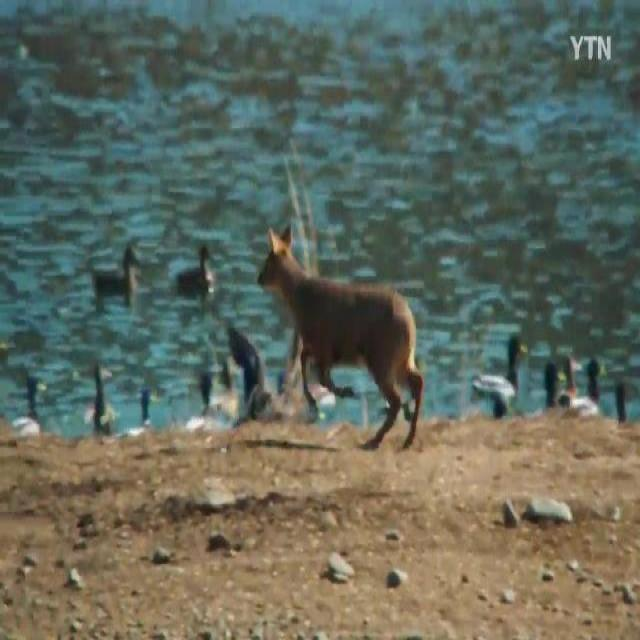deer: (257, 222, 425, 454)
